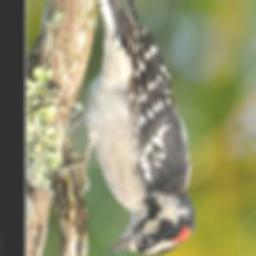Woodpecker: (63, 0, 199, 255)
